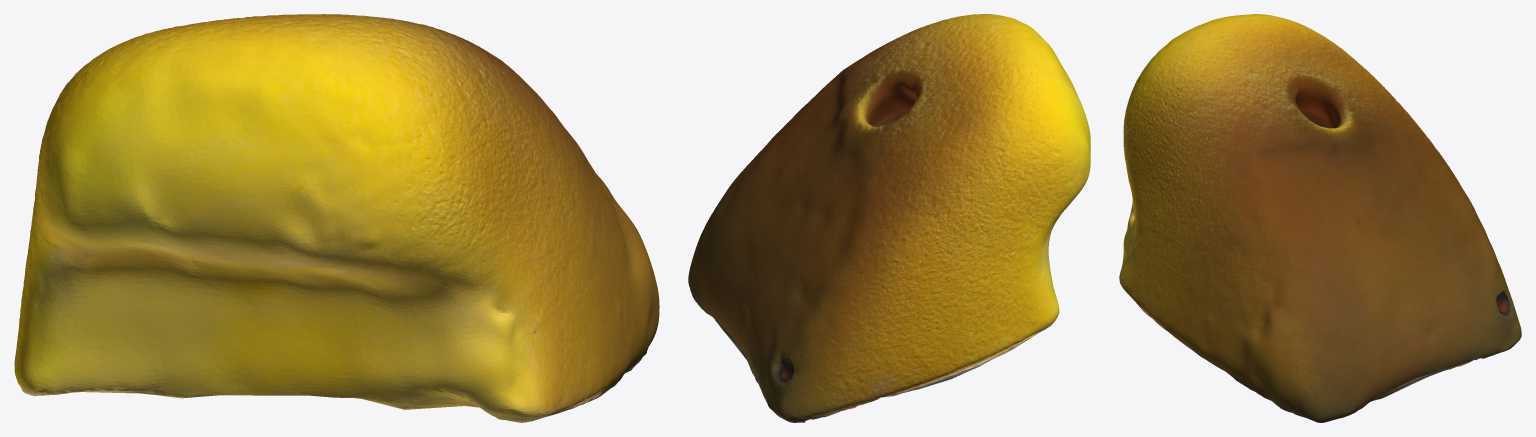
The model's file is Teknik_BigBullies_4.glb.
3 renders of one model, left to right at view 1: azimuth 30°, elevation 25°; view 2: azimuth 150°, elevation 25°; view 3: azimuth 270°, elevation 25°, orthographic. The views are drawn at different scales.
Size of the model in its own units: 0.7899 by 0.5989 by 0.7609.
Materials: 1 (1 with a texture image).
